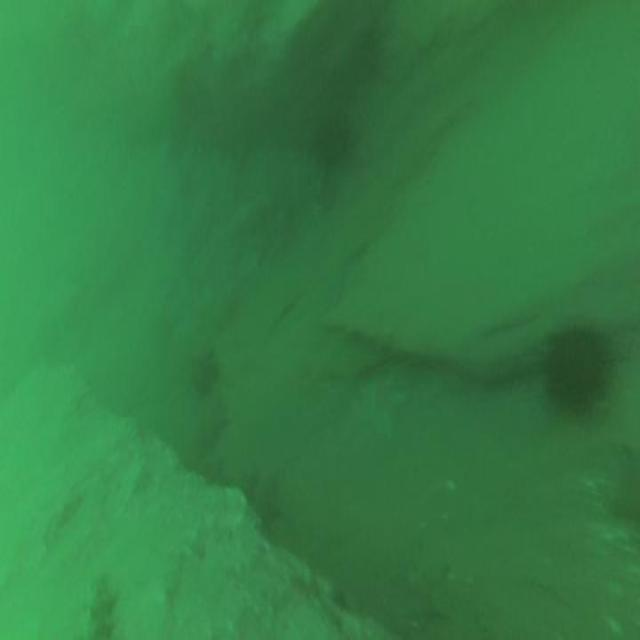echinus: (530, 305, 618, 427)
